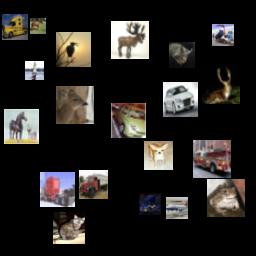airplane: (166, 197, 188, 219)
automobile: (163, 82, 198, 117), (111, 103, 146, 138)
bird: (56, 32, 91, 67)
cat: (53, 212, 85, 244), (169, 42, 195, 68)
deer: (56, 86, 94, 124), (202, 66, 240, 104), (111, 21, 149, 59)
dog: (144, 141, 173, 170)
frog: (207, 179, 245, 217)
ship: (25, 61, 44, 80)
truck: (193, 140, 231, 178), (40, 172, 75, 207), (79, 170, 108, 199), (2, 14, 28, 40), (139, 193, 161, 215), (212, 24, 234, 46)
